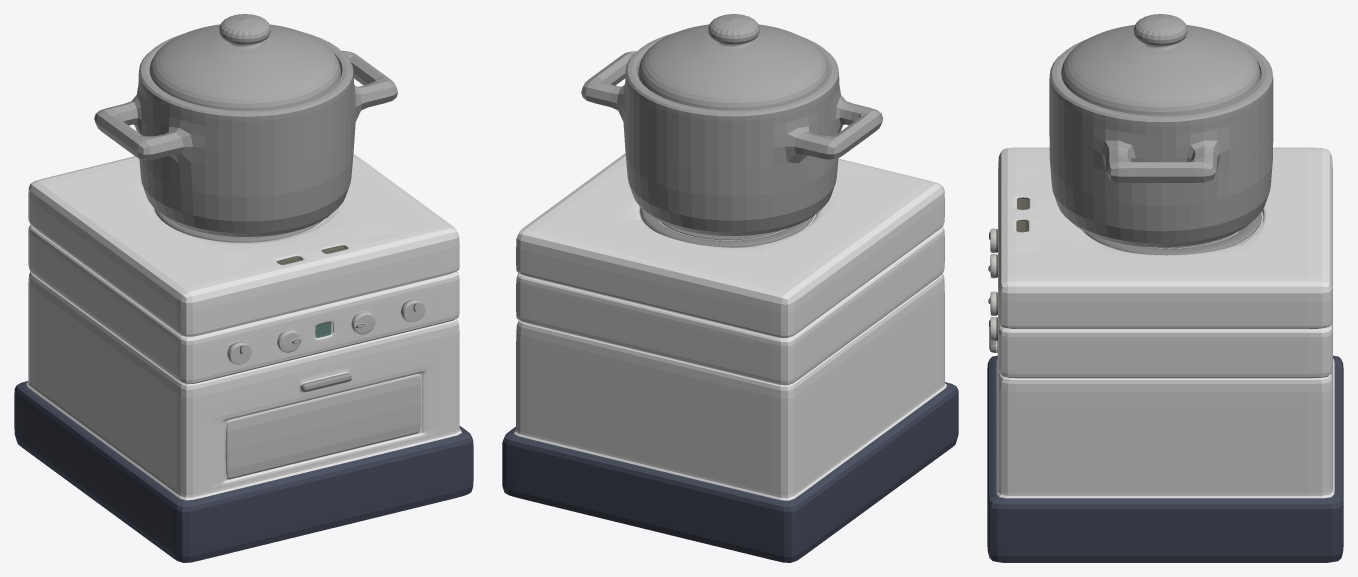
The model's file is Induction-pot.fbx.
3 renders of one model, left to right at view 1: azimuth 30°, elevation 25°; view 2: azimuth 150°, elevation 25°; view 3: azimuth 270°, elevation 25°, orthographic. The views are drawn at different scales.
Visible parts, largest first — view 1: 큐브.009, 원형.010, 원형.011; view 2: 큐브.009, 원형.010, 원형.011; view 3: 큐브.009, 원형.010, 원형.011.
Boxes of the visible parts, x1,y1,x2,y2 form: 큐브.009: (14, 153, 473, 562); 원형.010: (94, 31, 397, 236); 원형.011: (149, 14, 340, 110); 큐브.009: (502, 153, 958, 562); 원형.010: (581, 33, 883, 235); 원형.011: (638, 14, 828, 110); 큐브.009: (987, 147, 1343, 562); 원형.010: (1049, 37, 1273, 247); 원형.011: (1061, 14, 1260, 115).
Size of the model in its own units: 315 by 458 by 315.
